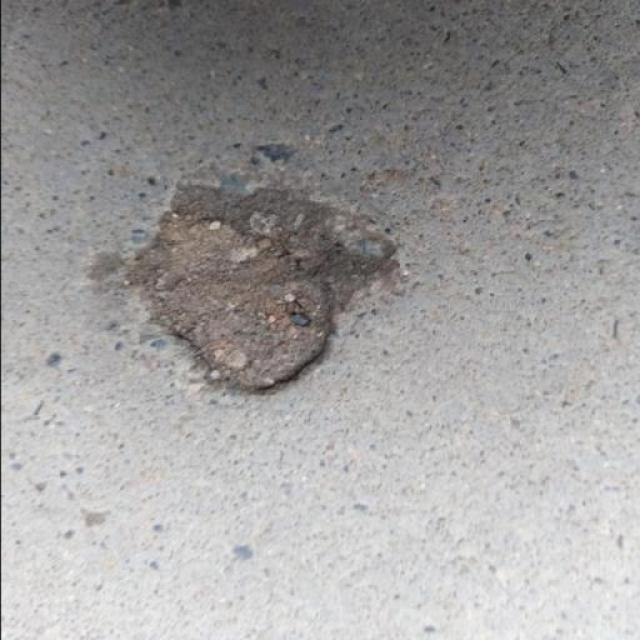D10: (90, 182, 396, 395)
